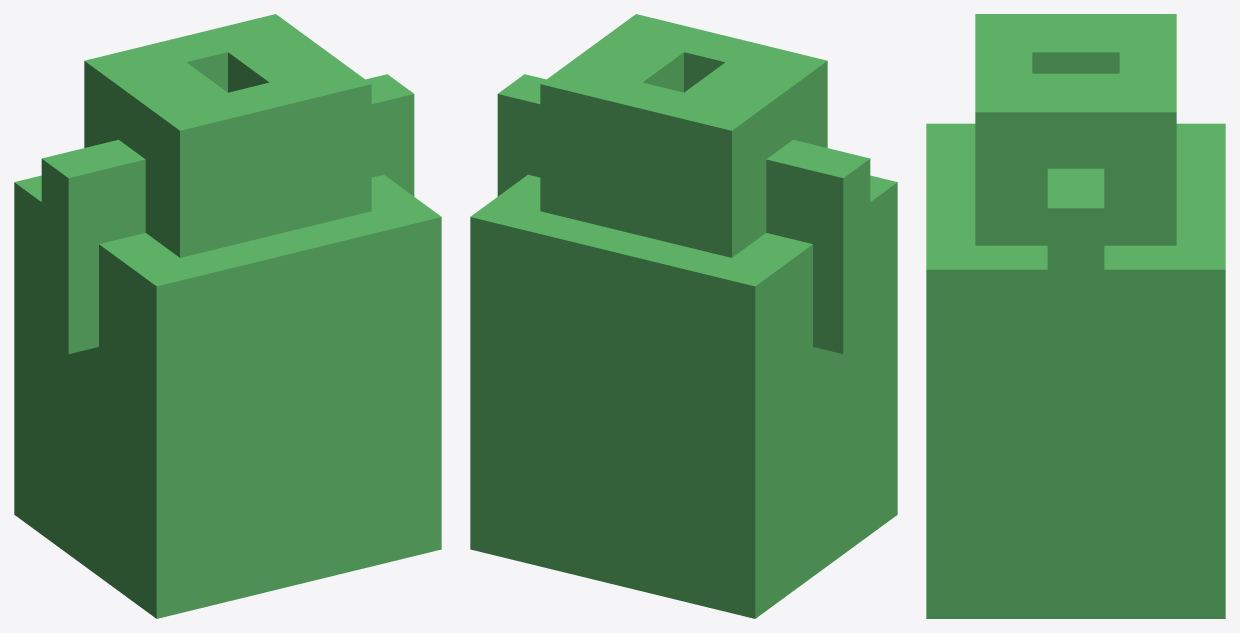
File: amphora_oil_flammable_piece_collisions.glb
The picture shows the model from 3 angles, left to right: view 1: azimuth 30°, elevation 25°; view 2: azimuth 150°, elevation 25°; view 3: azimuth 270°, elevation 25°; orthographic projection. The views are drawn at different scales.
Parts seen in each view (by area): view 1: amphora_oil_flammable-piece-03-convcol, amphora_oil_flammable-piece-04-convcol, amphora_oil_flammable-piece-05-convcol, amphora_oil_flammable-piece-02-convcol, amphora_oil_flammable-piece-09-convcol, amphora_oil_flammable-piece-12-convcol, amphora_oil_flammable-piece-11-convcol, amphora_oil_flammable-piece-10-convcol, amphora_oil_flammable-piece-08-convcol, amphora_oil_flammable-piece-13-convcol, amphora_oil_flammable-piece-06-convcol, amphora_oil_flammable-piece-07-convcol; view 2: amphora_oil_flammable-piece-02-convcol, amphora_oil_flammable-piece-00-convcol, amphora_oil_flammable-piece-01-convcol, amphora_oil_flammable-piece-03-convcol, amphora_oil_flammable-piece-08-convcol, amphora_oil_flammable-piece-12-convcol, amphora_oil_flammable-piece-06-convcol, amphora_oil_flammable-piece-07-convcol, amphora_oil_flammable-piece-09-convcol, amphora_oil_flammable-piece-13-convcol, amphora_oil_flammable-piece-11-convcol, amphora_oil_flammable-piece-10-convcol; view 3: amphora_oil_flammable-piece-00-convcol, amphora_oil_flammable-piece-05-convcol, amphora_oil_flammable-piece-06-convcol, amphora_oil_flammable-piece-11-convcol, amphora_oil_flammable-piece-13-convcol, amphora_oil_flammable-piece-09-convcol, amphora_oil_flammable-piece-08-convcol, amphora_oil_flammable-piece-04-convcol, amphora_oil_flammable-piece-01-convcol, amphora_oil_flammable-piece-10-convcol, amphora_oil_flammable-piece-07-convcol, amphora_oil_flammable-piece-02-convcol (+1 smaller).
Boxes of the visible parts, x1,y1,x2,y2 form: amphora_oil_flammable-piece-03-convcol: (85, 233, 282, 618); amphora_oil_flammable-piece-04-convcol: (228, 217, 370, 600); amphora_oil_flammable-piece-05-convcol: (292, 174, 441, 579); amphora_oil_flammable-piece-02-convcol: (14, 175, 85, 566); amphora_oil_flammable-piece-09-convcol: (132, 77, 254, 257); amphora_oil_flammable-piece-12-convcol: (41, 139, 145, 354); amphora_oil_flammable-piece-11-convcol: (248, 49, 371, 229); amphora_oil_flammable-piece-10-convcol: (202, 76, 323, 245); amphora_oil_flammable-piece-08-convcol: (84, 42, 206, 149); amphora_oil_flammable-piece-13-convcol: (365, 74, 414, 196); amphora_oil_flammable-piece-06-convcol: (203, 14, 322, 92); amphora_oil_flammable-piece-07-convcol: (132, 25, 254, 92); amphora_oil_flammable-piece-02-convcol: (629, 233, 826, 618); amphora_oil_flammable-piece-00-convcol: (470, 174, 617, 580); amphora_oil_flammable-piece-01-convcol: (541, 217, 705, 601); amphora_oil_flammable-piece-03-convcol: (826, 175, 897, 566); amphora_oil_flammable-piece-08-convcol: (657, 77, 779, 257); amphora_oil_flammable-piece-12-convcol: (766, 139, 870, 354); amphora_oil_flammable-piece-06-convcol: (540, 49, 663, 229); amphora_oil_flammable-piece-07-convcol: (588, 76, 710, 246); amphora_oil_flammable-piece-09-convcol: (705, 42, 827, 149); amphora_oil_flammable-piece-13-convcol: (497, 74, 546, 196); amphora_oil_flammable-piece-11-convcol: (589, 14, 683, 92); amphora_oil_flammable-piece-10-convcol: (657, 25, 759, 92); amphora_oil_flammable-piece-00-convcol: (1076, 205, 1225, 618); amphora_oil_flammable-piece-05-convcol: (926, 209, 1075, 618); amphora_oil_flammable-piece-06-convcol: (1076, 73, 1176, 245); amphora_oil_flammable-piece-11-convcol: (975, 73, 1075, 245); amphora_oil_flammable-piece-13-convcol: (1047, 168, 1104, 392); amphora_oil_flammable-piece-09-convcol: (975, 14, 1075, 73); amphora_oil_flammable-piece-08-convcol: (1076, 14, 1176, 73); amphora_oil_flammable-piece-04-convcol: (926, 160, 975, 233); amphora_oil_flammable-piece-01-convcol: (1176, 160, 1225, 233); amphora_oil_flammable-piece-10-convcol: (975, 38, 1032, 87); amphora_oil_flammable-piece-07-convcol: (1119, 38, 1176, 87); amphora_oil_flammable-piece-02-convcol: (1176, 123, 1225, 159).
Size of the model in its own units: 0.74 by 0.94 by 0.5283.
